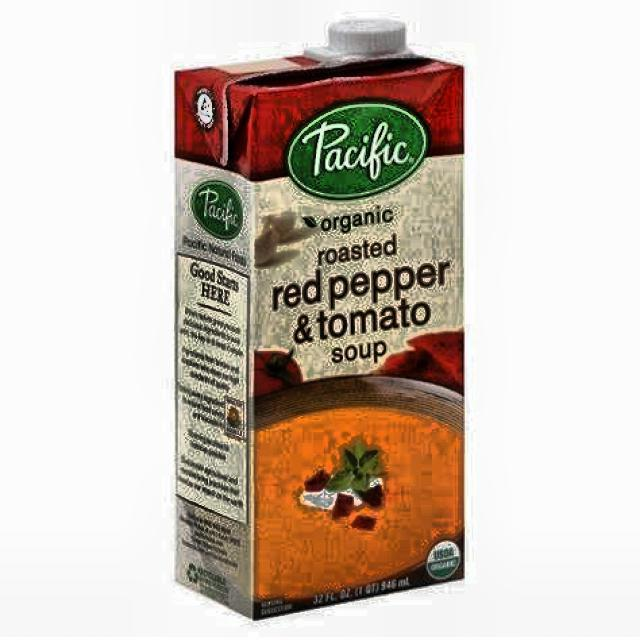cardboard: (171, 19, 466, 620)
